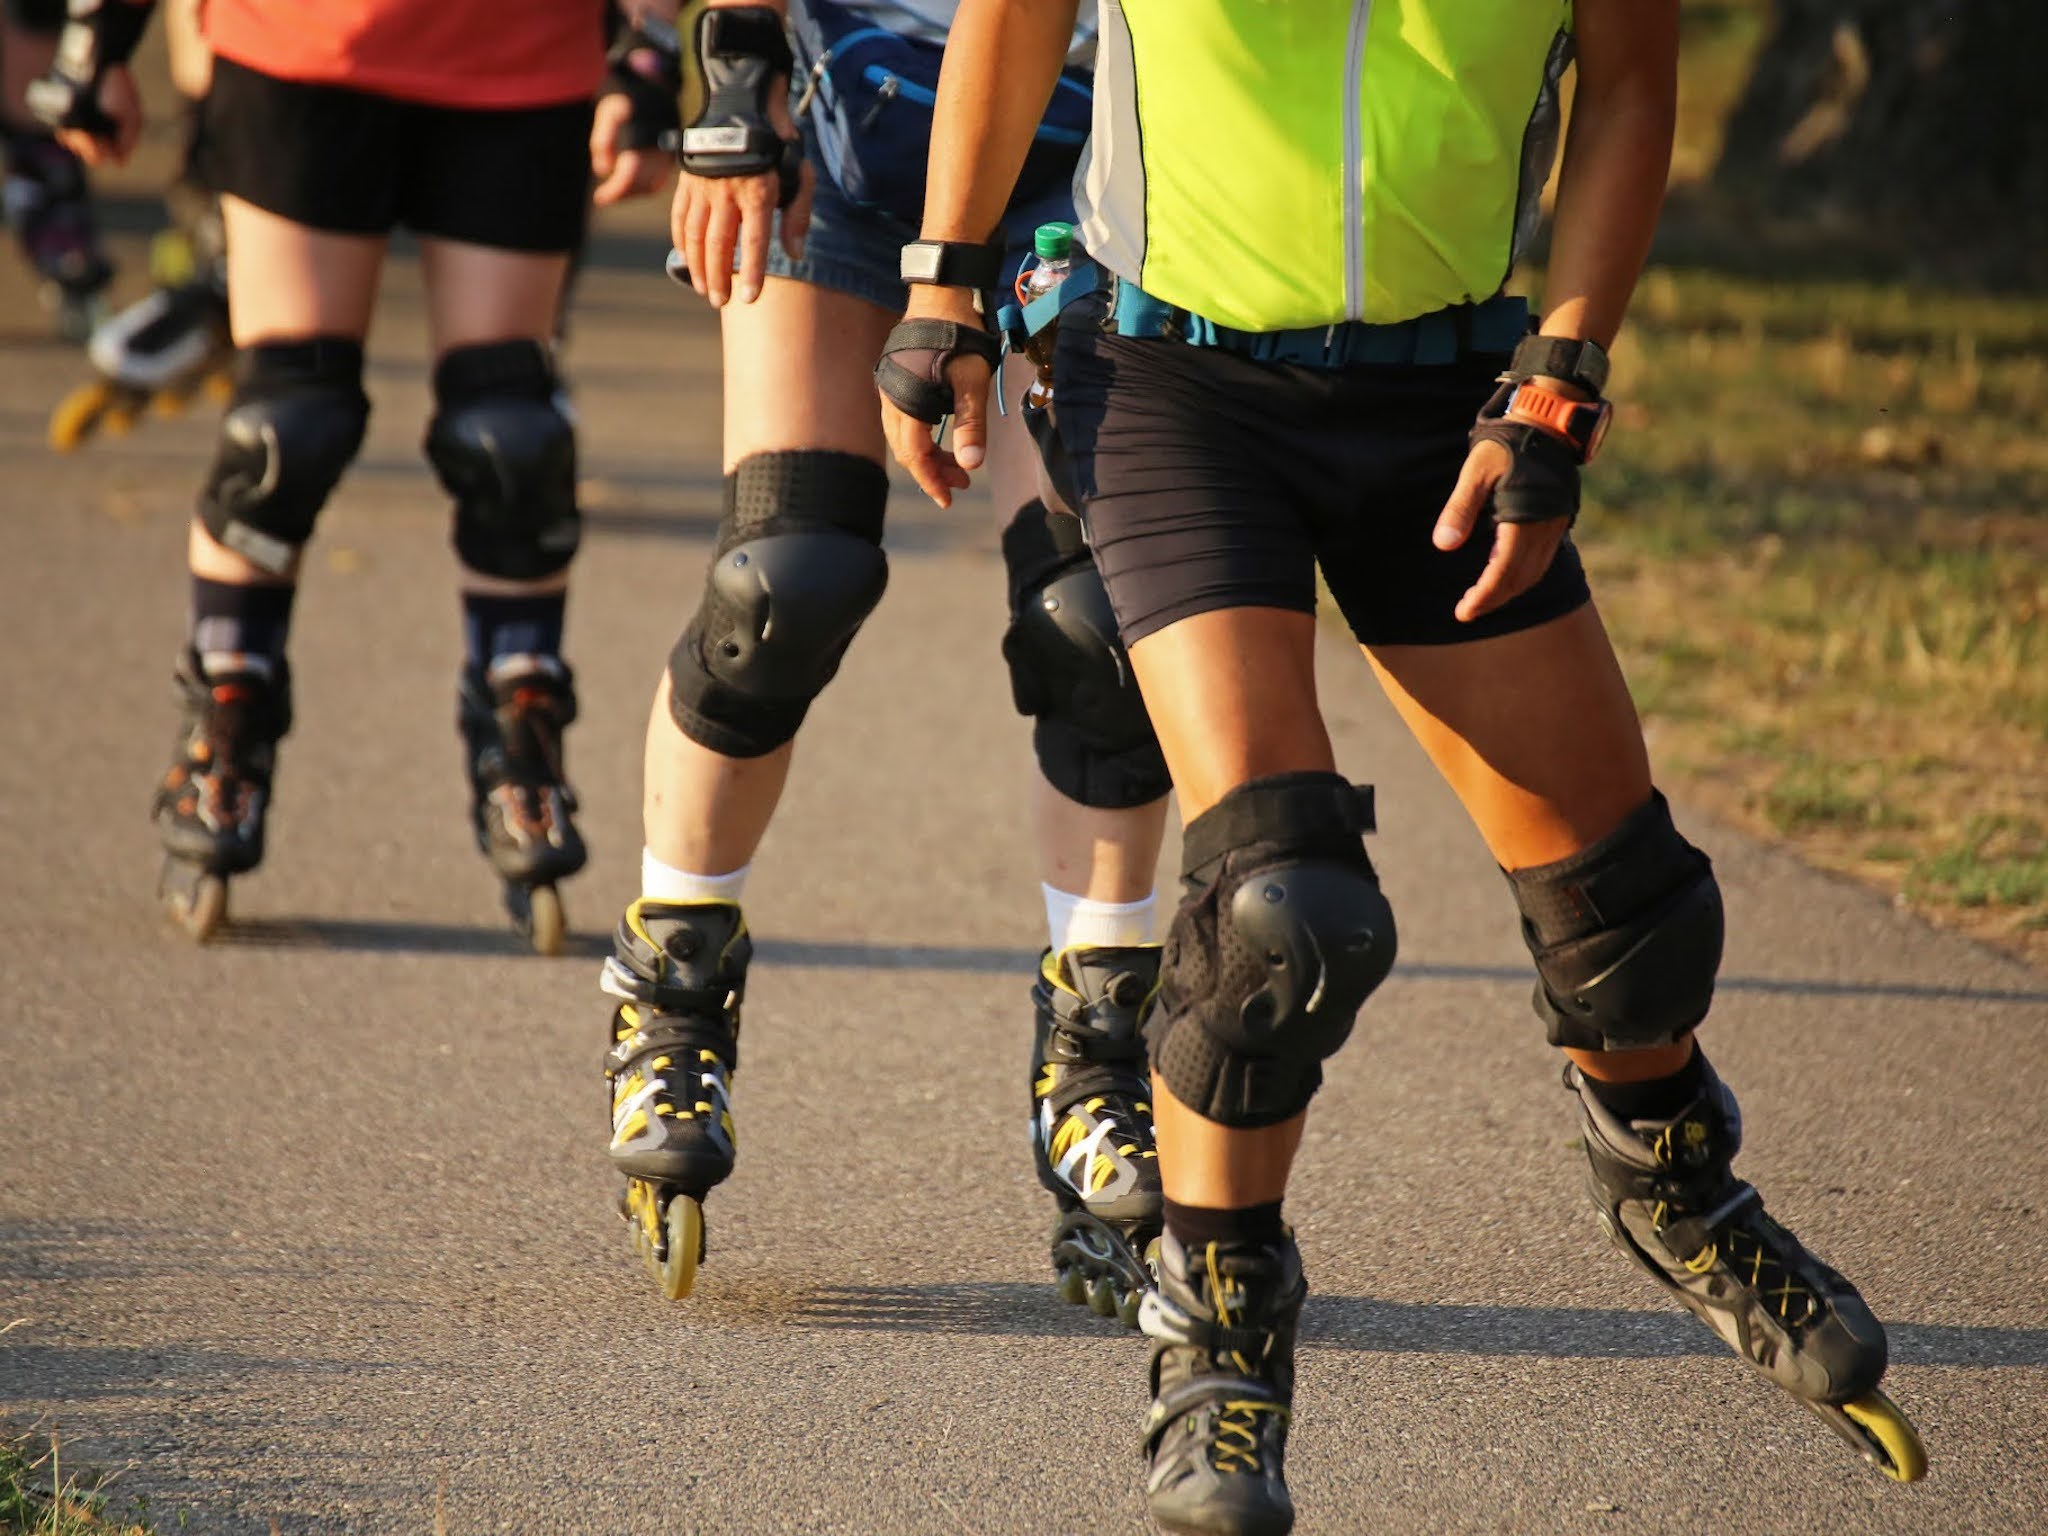roller_blade: (1563, 1062, 1930, 1484), (610, 899, 751, 1307), (453, 595, 595, 954), (153, 587, 287, 945), (1156, 1225, 1301, 1536), (1030, 945, 1150, 1320)
